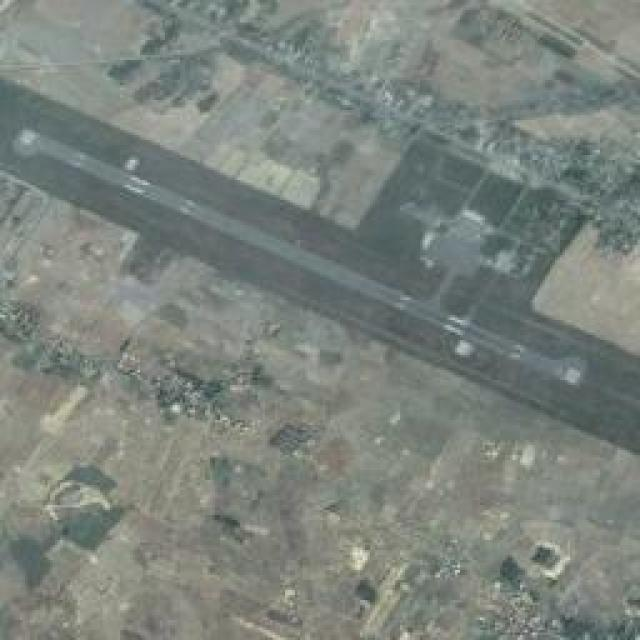Airport: (0, 103, 640, 493)
